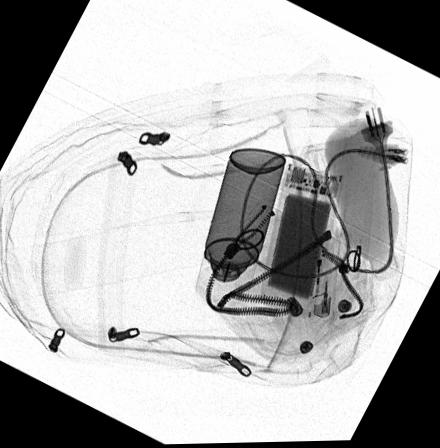Lighter: (310, 235, 333, 320)
Powerbank: (258, 162, 344, 318)
Sprayer: (193, 147, 287, 306)
